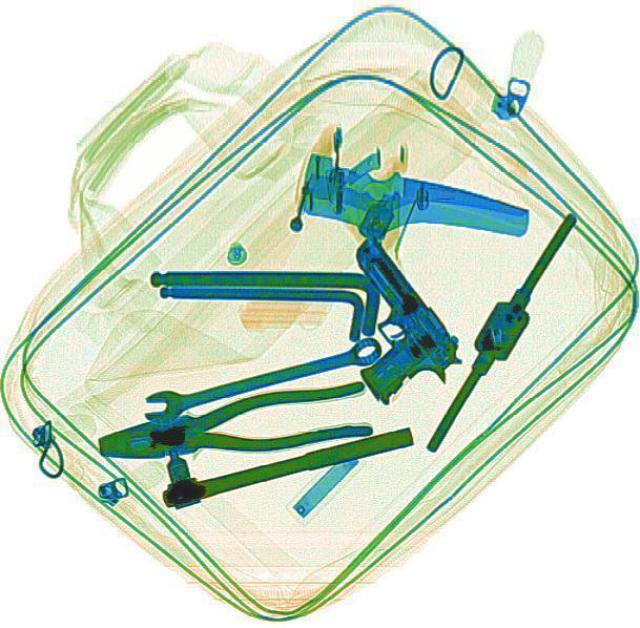Gun: (290, 229, 476, 413)
Pliers: (90, 378, 372, 471)
Wrench: (136, 332, 384, 425)
